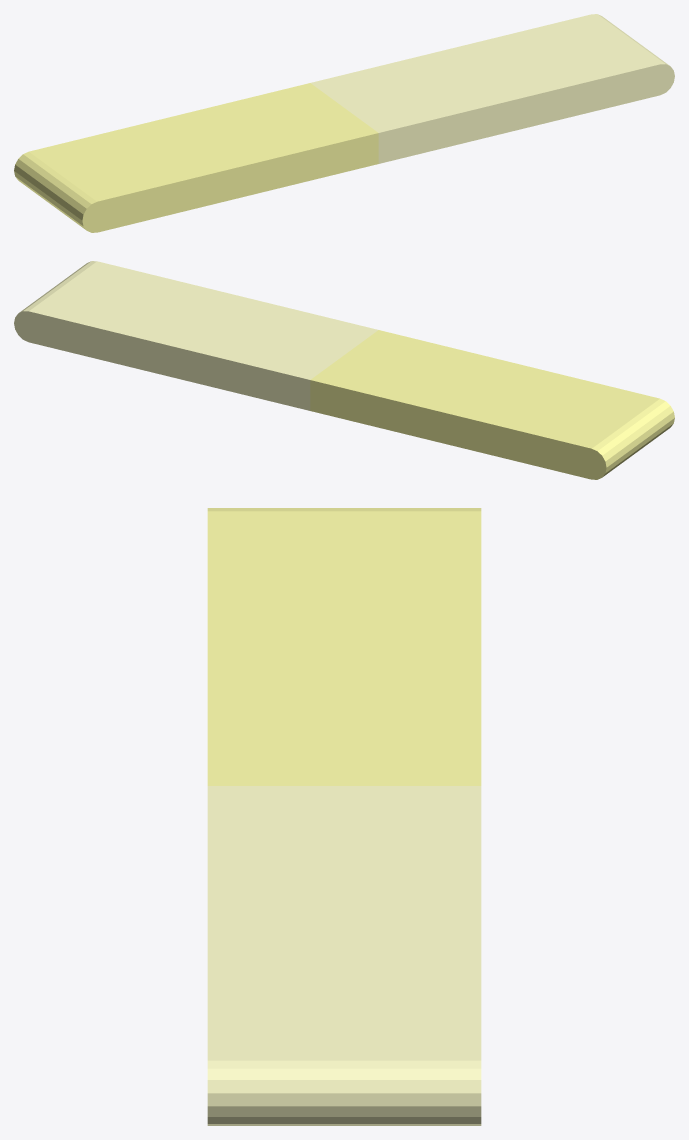
File: island-plate-oval.fbx
3 views of the same model, one above another, from view 1: azimuth 30°, elevation 25°; view 2: azimuth 150°, elevation 25°; view 3: azimuth 270°, elevation 25° (orthographic). The views are drawn at different scales.
Parts seen in each view (by area): view 1: Plane; view 2: Plane; view 3: Plane.
Part boxes in pixels (x1,y1,x2,y2): Plane: (14,14,674,232); Plane: (14,261,674,479); Plane: (207,508,481,1125).
Size of the model in its own units: 50000 by 2500 by 10000.
